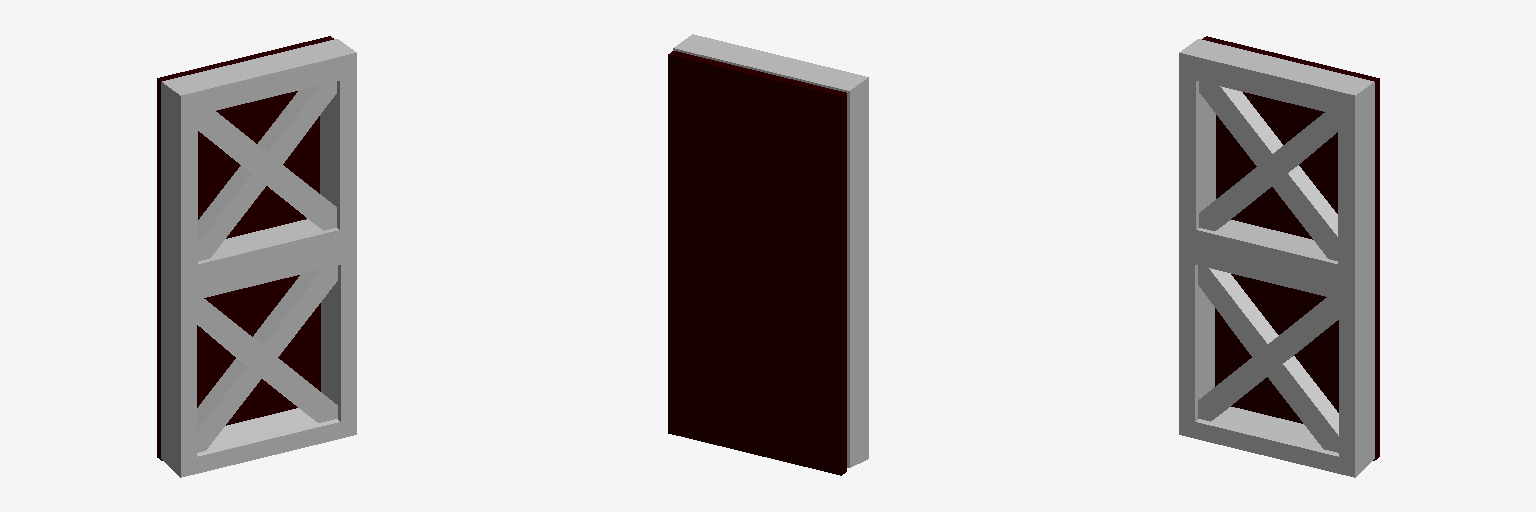
File: barnDoor.obj
3 renders of one model, left to right at view 1: azimuth 30°, elevation 25°; view 2: azimuth 150°, elevation 25°; view 3: azimuth 330°, elevation 25°, orthographic.
Visible parts, largest first — view 1: Barn_Door2, DoorBack2, BarnX1, BarnX4; view 2: DoorBack2, Barn_Door2; view 3: Barn_Door2, DoorBack2, BarnX1, BarnX4.
Part boxes in pixels (x1,y1,x2,y2): Barn_Door2: (161, 39, 356, 477); DoorBack2: (157, 36, 333, 460); BarnX1: (197, 266, 337, 452); BarnX4: (198, 81, 336, 260); DoorBack2: (668, 51, 846, 475); Barn_Door2: (673, 34, 868, 467); Barn_Door2: (1179, 39, 1374, 477); DoorBack2: (1202, 36, 1379, 460); BarnX1: (1198, 266, 1338, 452); BarnX4: (1199, 81, 1337, 260).
Bounding box in the file's own units: 3.64 × 7.54 × 0.9083.